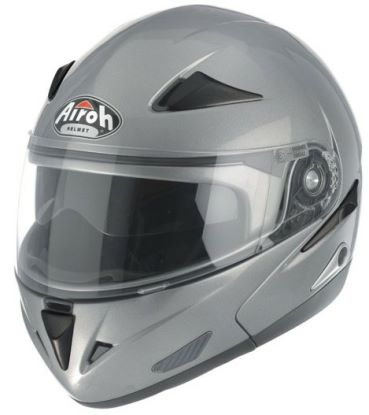helmet: (15, 11, 358, 381)
